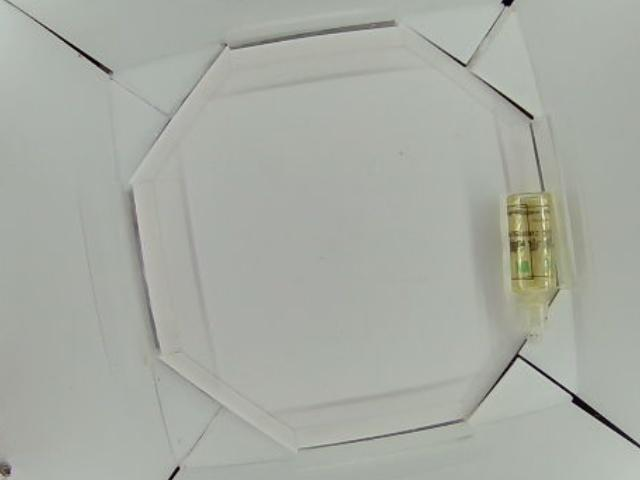Bottle: (501, 192, 562, 338)
